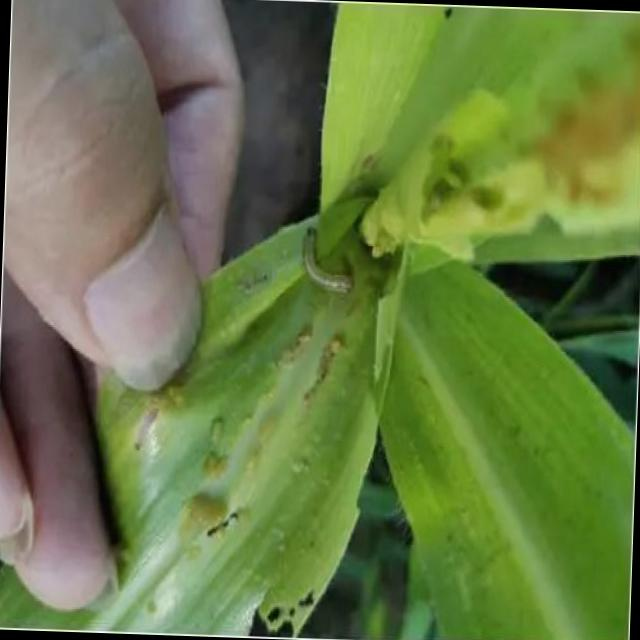pest: (299, 229, 352, 294)
